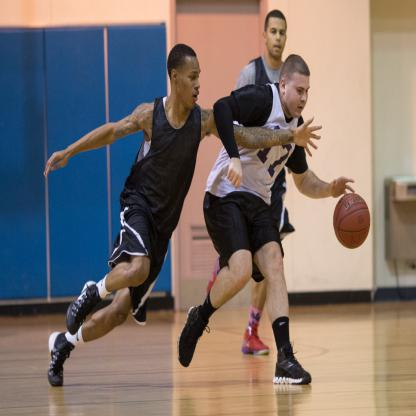Ball: (332, 193, 372, 250)
